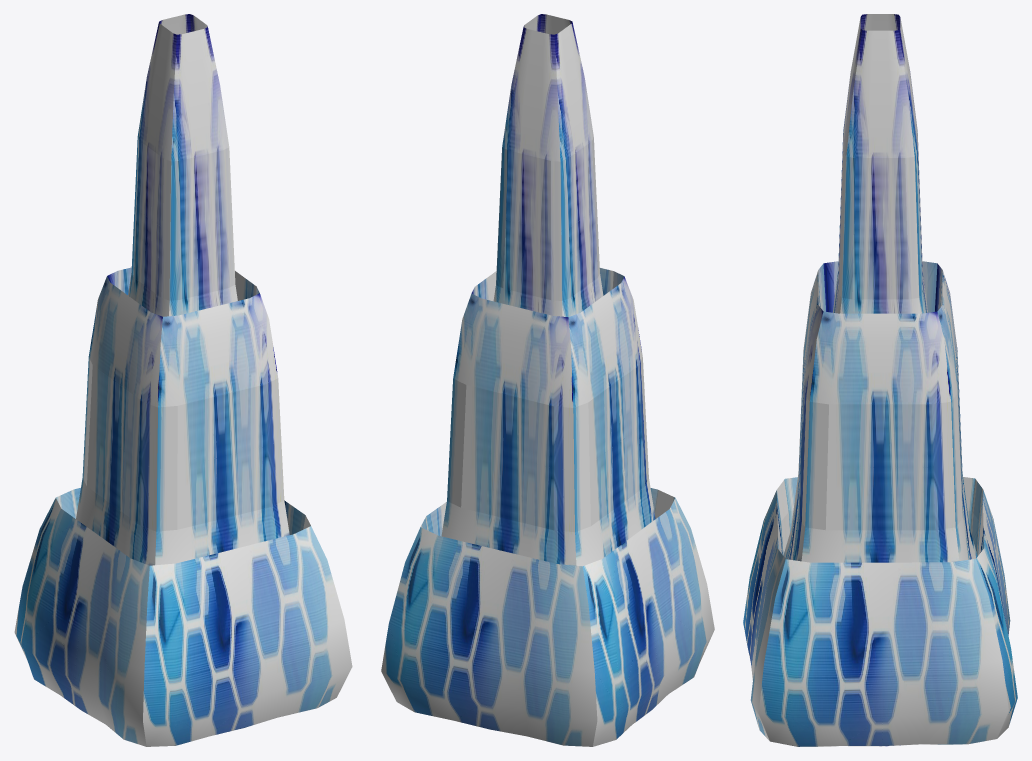
Rendered from building2 laser.FBX.
3 renders of one model, left to right at view 1: azimuth 30°, elevation 25°; view 2: azimuth 150°, elevation 25°; view 3: azimuth 270°, elevation 25°, orthographic.
Visible parts, largest first — view 1: Pyramid001; view 2: Pyramid001; view 3: Pyramid001.
Part boxes in pixels (left/top/right/bottom): Pyramid001: left=14, top=14, right=352, bottom=746; Pyramid001: left=381, top=14, right=714, bottom=746; Pyramid001: left=743, top=14, right=1017, bottom=746.
Bounding box in the file's own units: 38.84 × 108 × 38.84.
